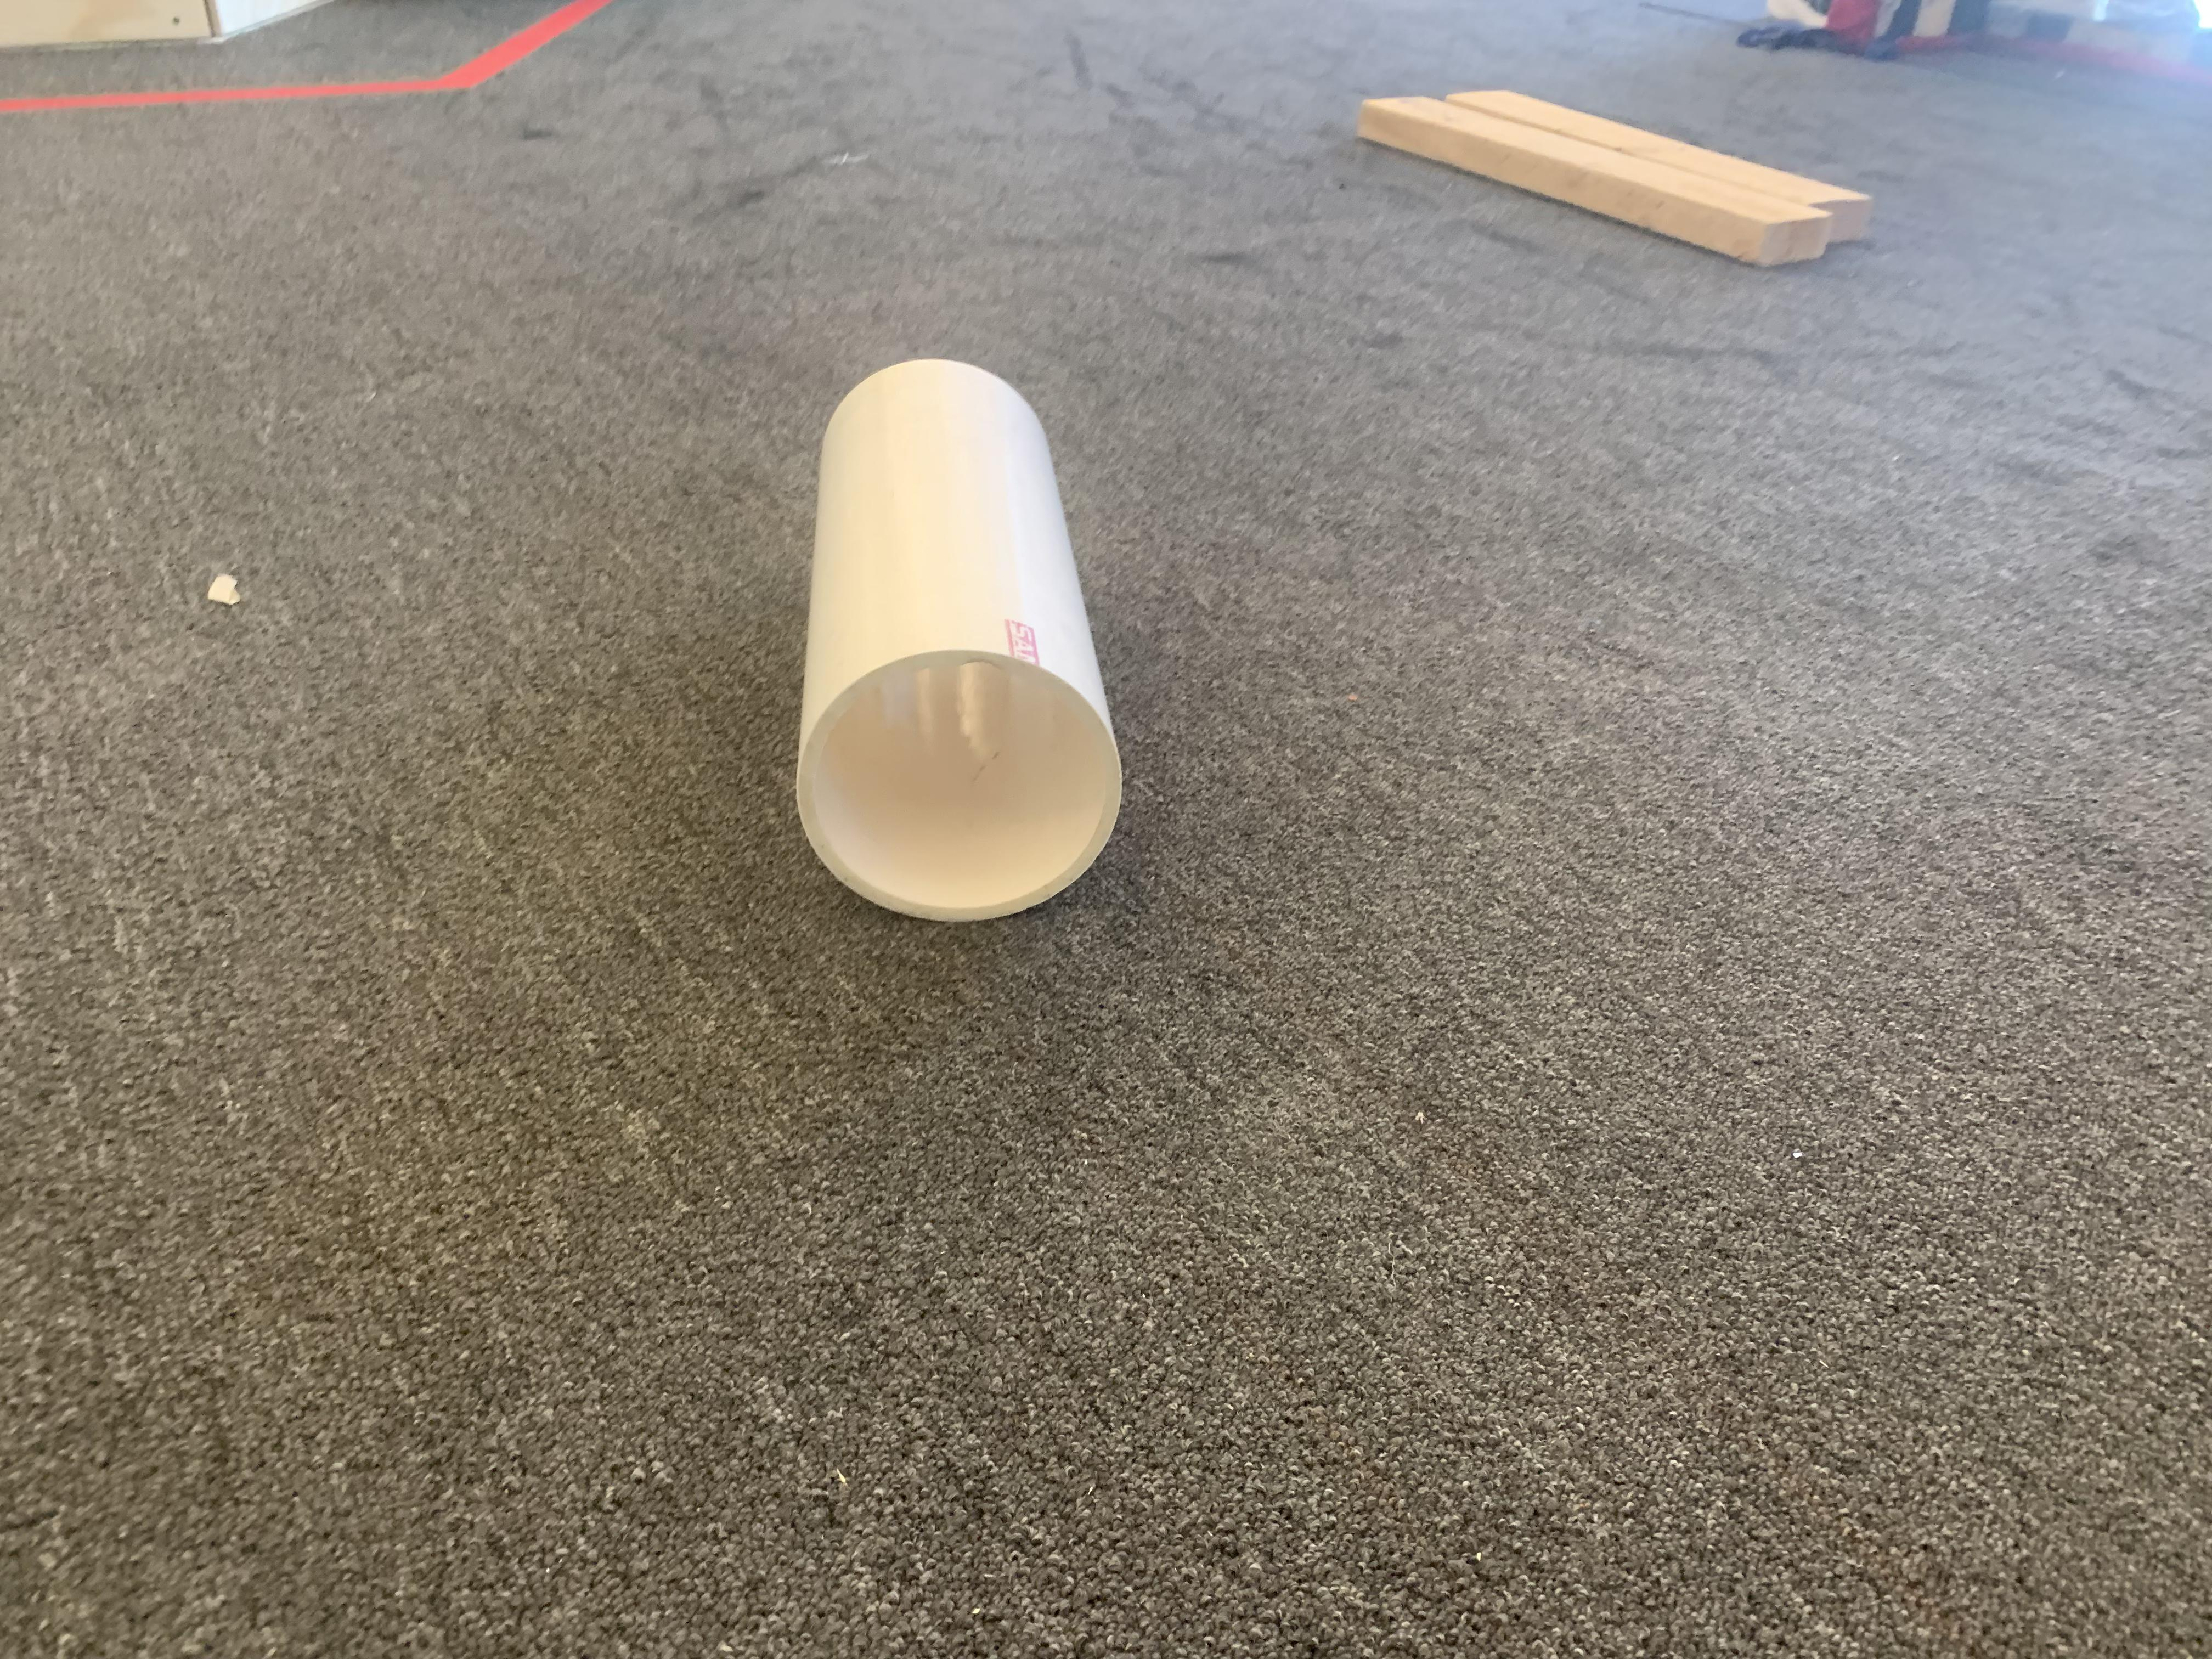coral: (791, 352, 1125, 924)
